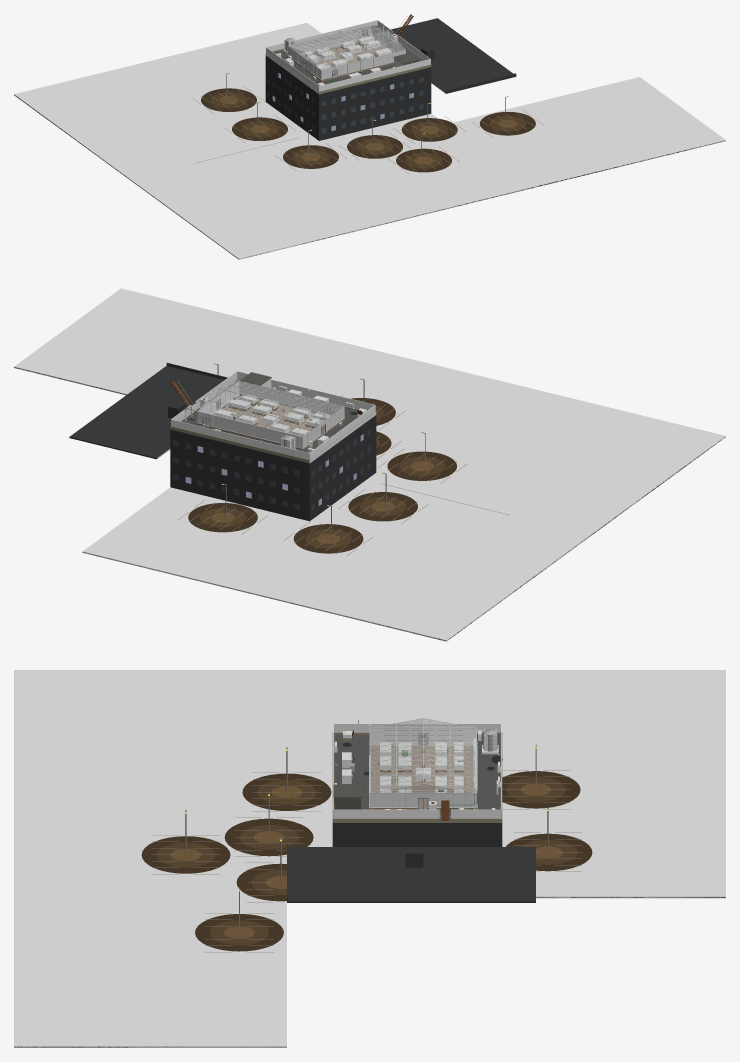
The picture shows the model from 3 angles, top to bottom: view 1: azimuth 30°, elevation 25°; view 2: azimuth 150°, elevation 25°; view 3: azimuth 270°, elevation 25°; orthographic projection. The views are drawn at different scales.
Parts seen in each view (by area): view 1: COL, S_facade_night, S_emit_pool, S_glass_dusty, S_emit_pool_mid, S_frame_white, S_glass_dark, S_emit_lot_line, S_emit_pool_core, S_concrete_floor, S_gravel_path, S_lot_asphalt (+1 smaller); view 2: COL, S_facade_night, S_glass_dusty, S_emit_pool, S_emit_pool_mid, S_frame_white, S_glass_dark, S_emit_lot_line, S_emit_pool_core, S_gravel_path, S_concrete_wall, S_concrete_floor; view 3: COL, S_facade_night, S_emit_pool, S_glass_dusty, S_emit_pool_mid, S_frame_white, S_concrete_floor, S_gravel_path, S_emit_pool_core, S_emit_lot_line, S_concrete_wall, S_steel_dark (+1 smaller).
Boxes of the visible parts, x1=… form: COL: x1=14, y1=20, x2=725, y2=259; S_facade_night: x1=265, y1=18, x2=516, y2=140; S_emit_pool: x1=201, y1=88, x2=535, y2=172; S_glass_dusty: x1=288, y1=25, x2=405, y2=79; S_emit_pool_mid: x1=210, y1=92, x2=526, y2=168; S_frame_white: x1=287, y1=25, x2=405, y2=79; S_glass_dark: x1=267, y1=64, x2=423, y2=133; S_emit_lot_line: x1=193, y1=86, x2=543, y2=174; S_emit_pool_core: x1=219, y1=96, x2=517, y2=164; S_concrete_floor: x1=274, y1=28, x2=422, y2=84; S_gravel_path: x1=303, y1=39, x2=393, y2=77; S_lot_asphalt: x1=14, y1=95, x2=725, y2=257; COL: x1=14, y1=288, x2=725, y2=641; S_facade_night: x1=69, y1=362, x2=376, y2=521; S_glass_dusty: x1=198, y1=381, x2=343, y2=447; S_emit_pool: x1=188, y1=398, x2=456, y2=553; S_emit_pool_mid: x1=200, y1=405, x2=445, y2=548; S_frame_white: x1=197, y1=380, x2=344, y2=448; S_glass_dark: x1=173, y1=429, x2=370, y2=510; S_emit_lot_line: x1=178, y1=395, x2=509, y2=556; S_emit_pool_core: x1=211, y1=461, x2=434, y2=543; S_gravel_path: x1=204, y1=396, x2=324, y2=434; S_concrete_wall: x1=170, y1=378, x2=375, y2=463; S_concrete_floor: x1=181, y1=380, x2=358, y2=452; COL: x1=14, y1=670, x2=725, y2=1047; S_facade_night: x1=287, y1=823, x2=535, y2=902; S_emit_pool: x1=141, y1=771, x2=592, y2=951; S_glass_dusty: x1=370, y1=719, x2=476, y2=807; S_emit_pool_mid: x1=156, y1=777, x2=577, y2=945; S_frame_white: x1=369, y1=718, x2=477, y2=808; S_concrete_floor: x1=334, y1=735, x2=500, y2=815; S_gravel_path: x1=371, y1=745, x2=473, y2=809; S_emit_pool_core: x1=170, y1=783, x2=563, y2=939; S_emit_lot_line: x1=152, y1=720, x2=581, y2=952; S_concrete_wall: x1=332, y1=732, x2=502, y2=822; S_steel_dark: x1=185, y1=729, x2=548, y2=930.
Bounding box in the file's own units: 150 × 20.45 × 120.
88 materials, 43 textured.
